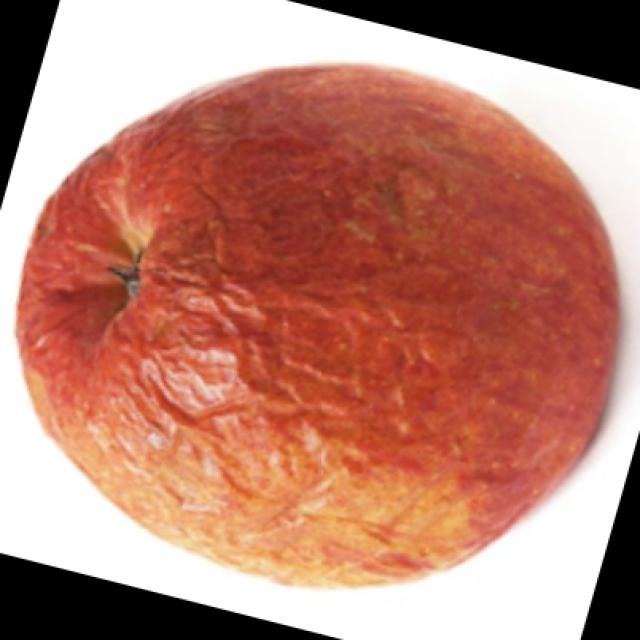Rotten: (32, 60, 620, 590)
